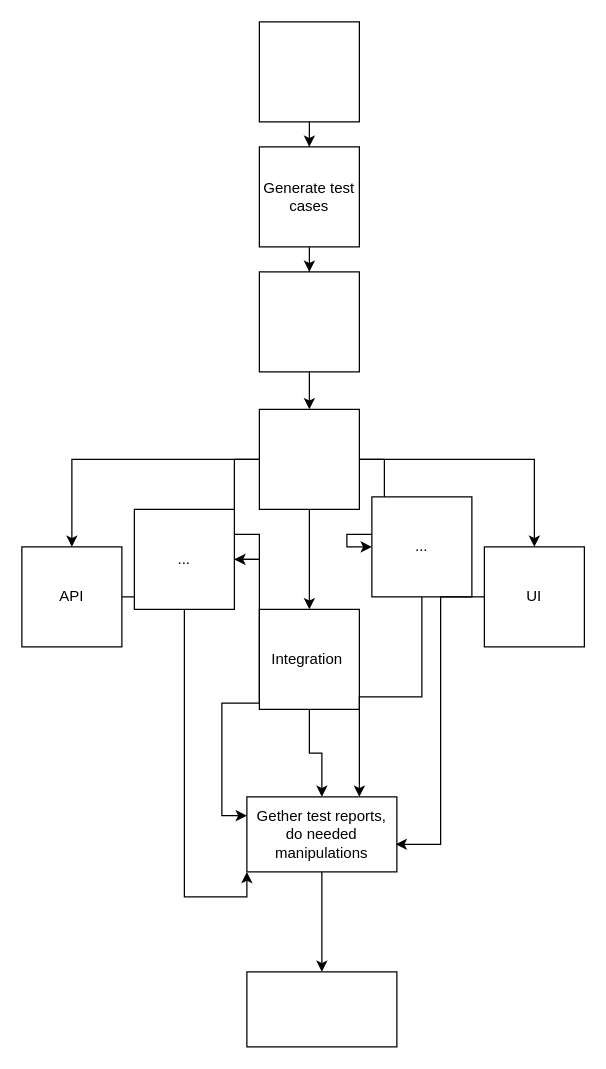
The diagram is 606 pixels wide and 1069 high, and some of its shapes have lost their labels. The shapes that lost their labels are listed below. From the top down, each one's centre as x and y in pixels, then its label:
At pixel 308 71: "Jira story".
At pixel 308 321: "Create Jira test tickets from generated tests cases".
At pixel 308 458: "Automate test cases".
At pixel 321 1009: "Send test report via emai, slac, etc.".
